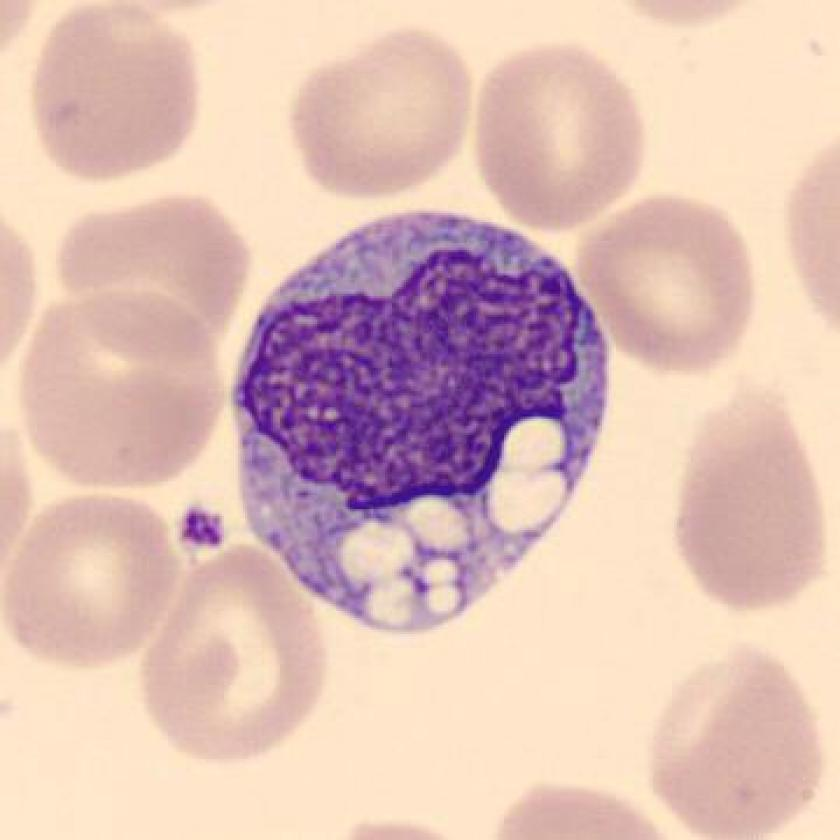monocyte: (211, 193, 631, 649)
